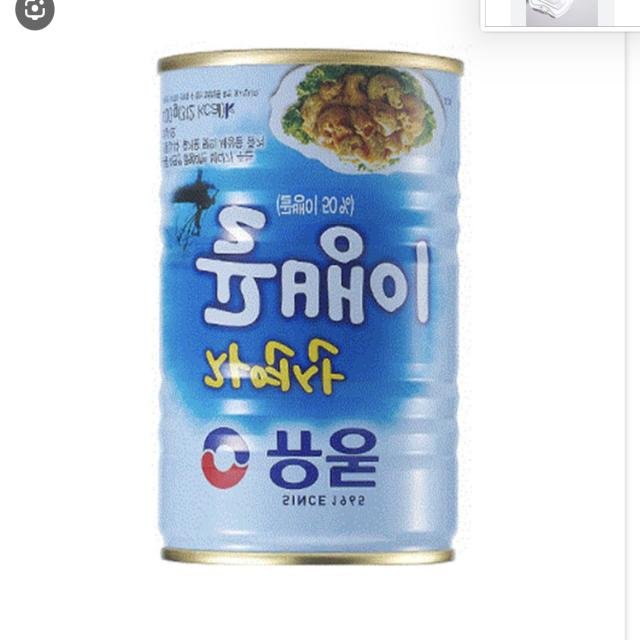can: (120, 42, 475, 579)
